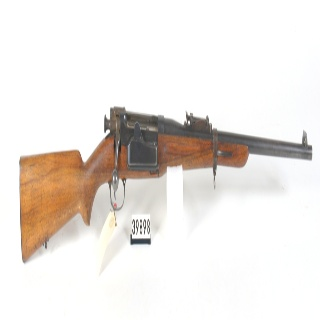rifle: (18, 105, 314, 265)
